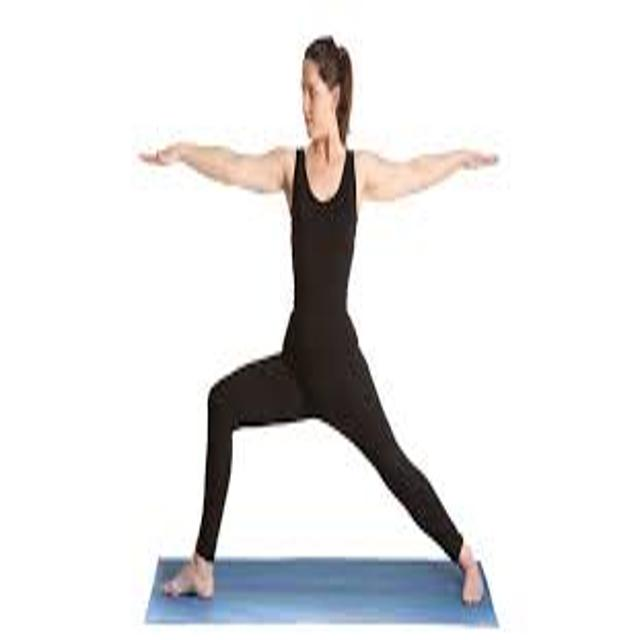Warrior_II: (134, 25, 502, 612)
